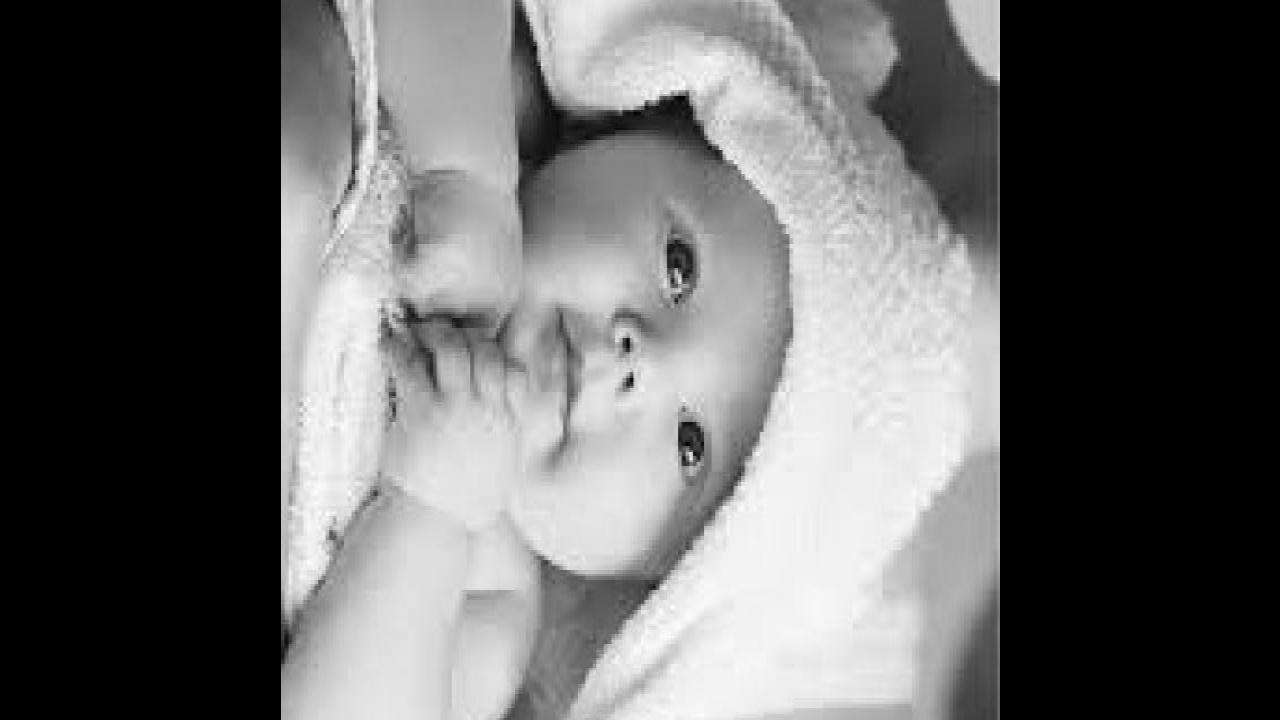hand: (375, 320, 529, 520), (396, 183, 522, 323)
